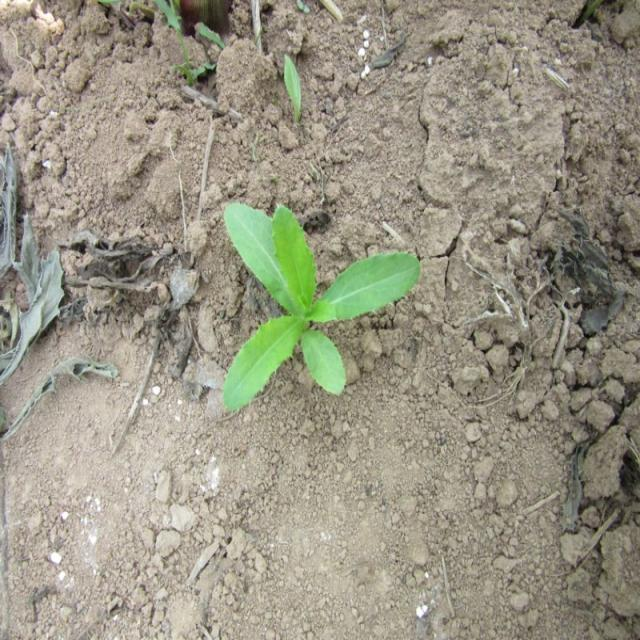cs: (216, 190, 424, 420)
